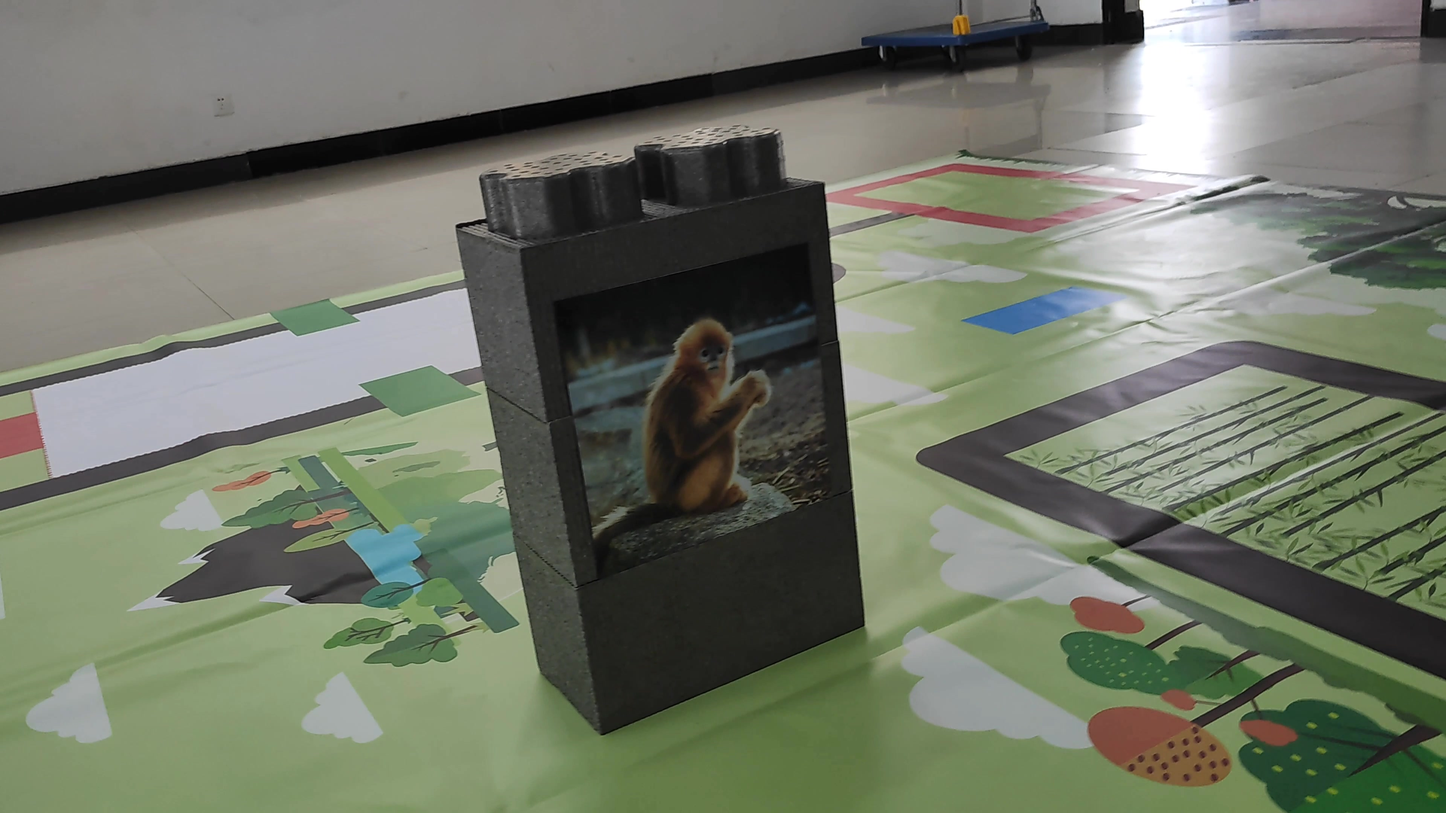monkey: (586, 304, 801, 544)
